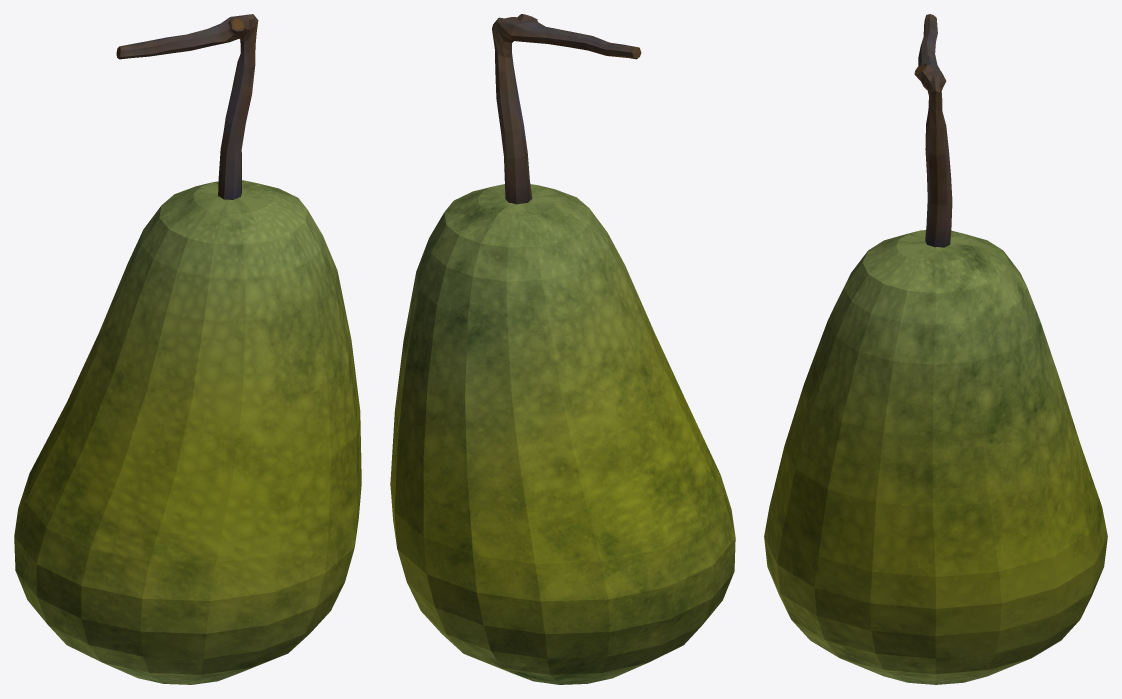
Rendered from A_FruitJacquier.fbx.
3 renders of one model, left to right at view 1: azimuth 30°, elevation 25°; view 2: azimuth 150°, elevation 25°; view 3: azimuth 270°, elevation 25°, orthographic. The views are drawn at different scales.
Parts seen in each view (by area): view 1: A_FruitJacquier_LD; view 2: A_FruitJacquier_LD; view 3: A_FruitJacquier_LD.
Part boxes in pixels (x1,y1,x2,y2): A_FruitJacquier_LD: [14, 14, 361, 684]; A_FruitJacquier_LD: [390, 14, 735, 684]; A_FruitJacquier_LD: [764, 14, 1107, 684].
Bounding box in the file's own units: 14.34 × 28.9 × 14.34.
Materials: 1 (1 with a texture image).
